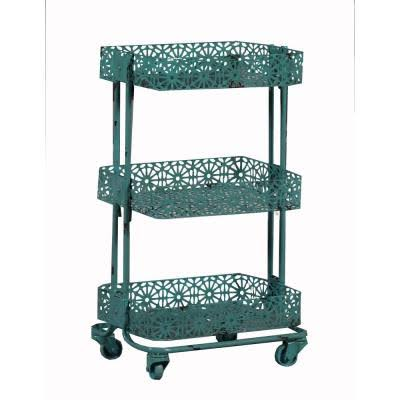Carts: (89, 42, 308, 378)
